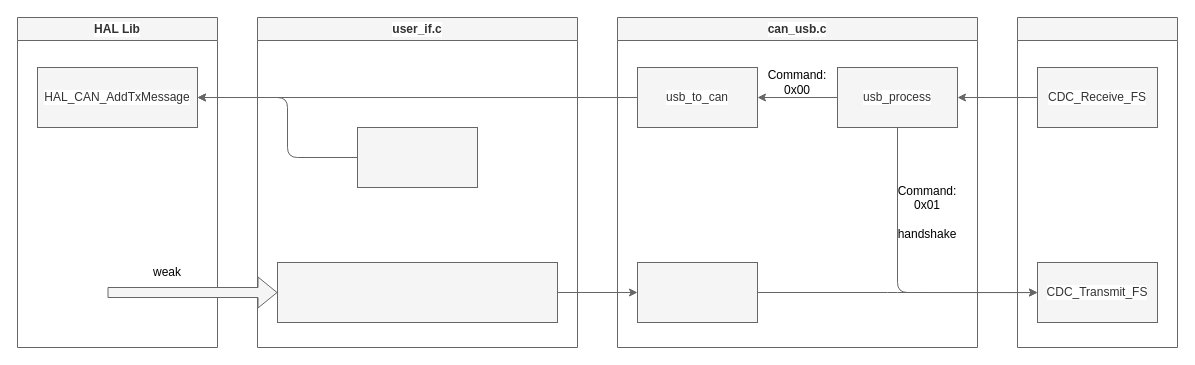
This 1195x365 diagram has some shape labels left out. Here are the shapes that lost their labels. From the top down, the centre of each, then its label:
At point 417,157: "motor.transmit".
At point 1097,182: "usbd_cdc_if.c".
At point 417,292: "HAL_CAN_Rx Fifo0MsgPendingCallback".
At point 697,292: "can_process".
